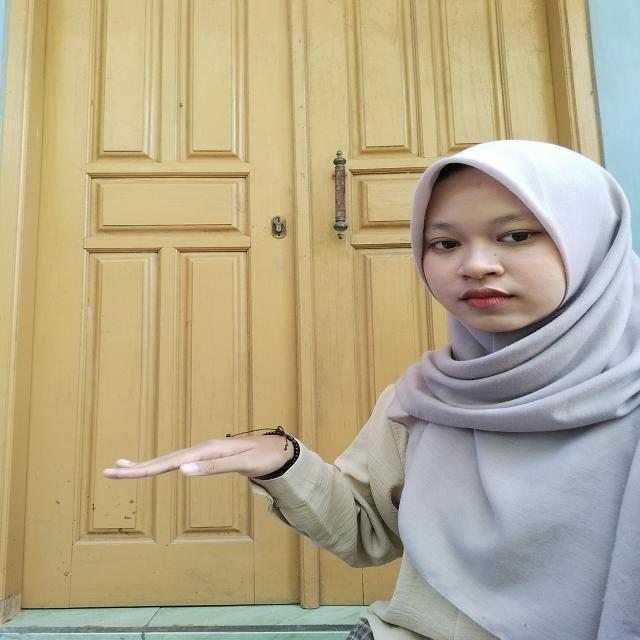adik: (83, 401, 332, 518)
